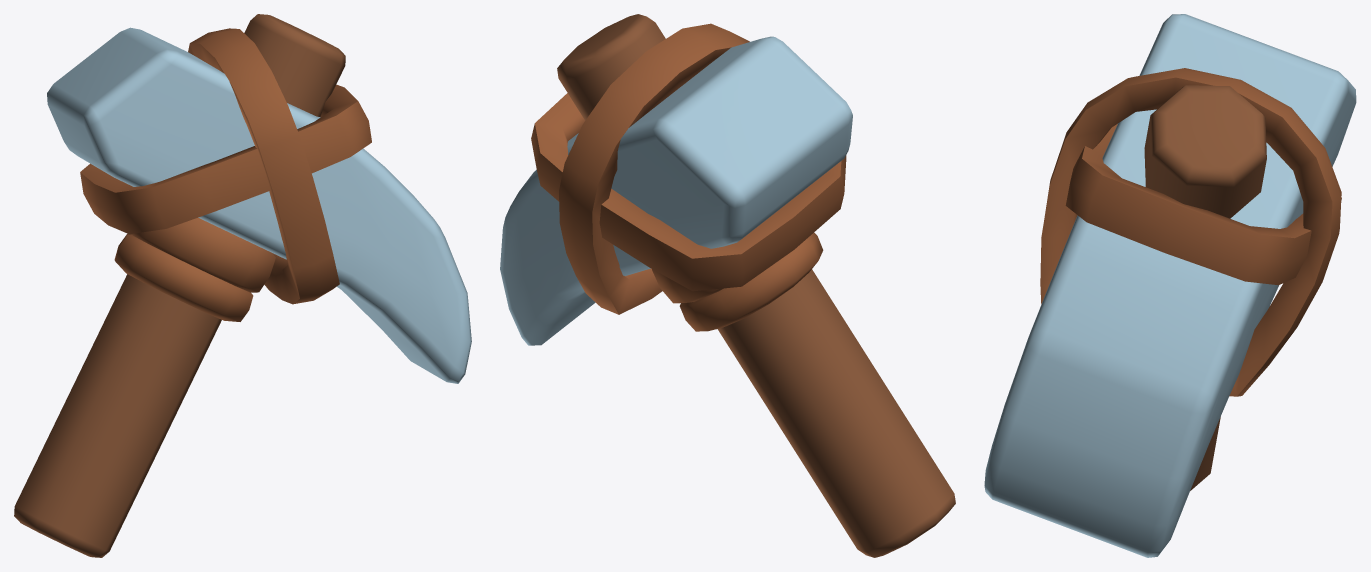
3 renders of one model, left to right at view 1: azimuth 30°, elevation 25°; view 2: azimuth 150°, elevation 25°; view 3: azimuth 270°, elevation 25°, orthographic. The views are drawn at different scales.
Parts seen in each view (by area): view 1: model_1.019; view 2: model_1.019; view 3: model_1.019.
Part boxes in pixels (left/top/right/bottom): model_1.019: left=14, top=14, right=471, bottom=557; model_1.019: left=500, top=14, right=955, bottom=557; model_1.019: left=984, top=14, right=1356, bottom=557.
Size of the model in its own units: 3.85 by 4.19 by 2.63.
